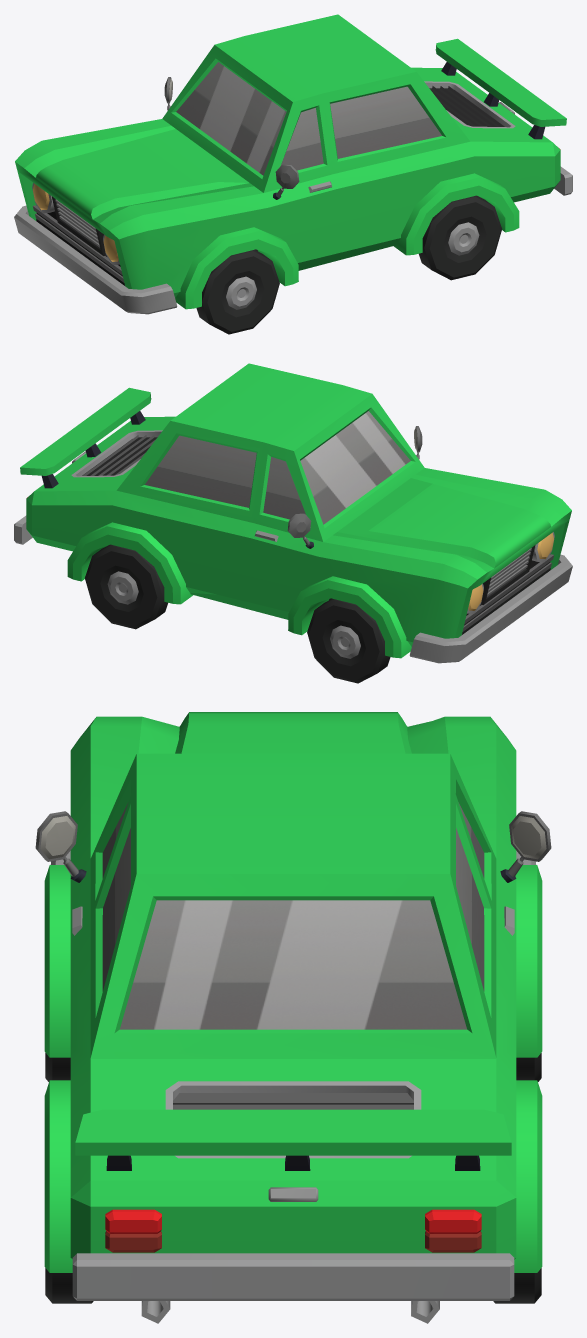
The model's file is Car_9_J.gltf.
3 views of the same model, one above another, from view 1: azimuth 30°, elevation 25°; view 2: azimuth 150°, elevation 25°; view 3: azimuth 270°, elevation 25° (orthographic). The views are drawn at different scales.
Visible parts, largest first — view 1: Car_9_J, RL, FL; view 2: Car_9_J, RR, FR; view 3: Car_9_J, RL, RR.
Part boxes in pixels (left/top/right/bottom): Car_9_J: left=14, top=14, right=572, bottom=314; RL: left=419, top=195, right=501, bottom=280; FL: left=196, top=249, right=279, bottom=334; Car_9_J: left=14, top=363, right=572, bottom=663; RR: left=85, top=544, right=167, bottom=629; FR: left=307, top=598, right=390, bottom=683; Car_9_J: left=35, top=712, right=551, bottom=1323; RL: left=45, top=1268, right=93, bottom=1303; RR: left=493, top=1268, right=541, bottom=1303.
Size of the model in its own units: 3.1 by 1.28 by 1.51.
4 materials, 4 textured.
